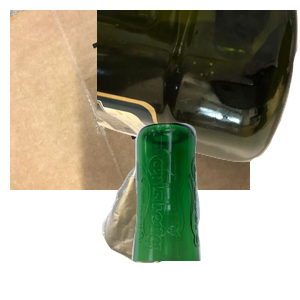cardboard: (10, 10, 250, 190)
glass: (129, 120, 300, 300)
plastic: (97, 10, 300, 165)
trash: (99, 155, 268, 300)
